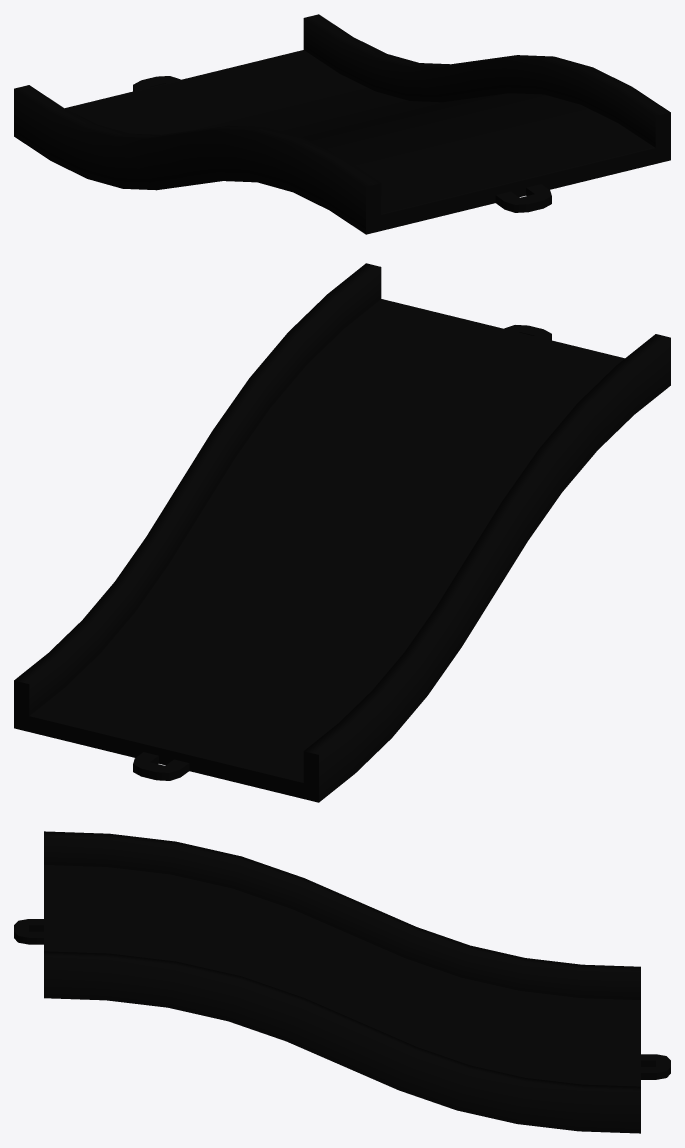
File: Track_Hill.glb
3 views of the same model, one above another, from view 1: azimuth 30°, elevation 25°; view 2: azimuth 150°, elevation 25°; view 3: azimuth 270°, elevation 25° (orthographic). The views are drawn at different scales.
Parts seen in each view (by area): view 1: track-wide-straight-hill-complete; view 2: track-wide-straight-hill-complete; view 3: track-wide-straight-hill-complete.
Boxes of the visible parts, x1,y1,x2,y2 form: track-wide-straight-hill-complete: (14, 14, 670, 234); track-wide-straight-hill-complete: (14, 263, 670, 802); track-wide-straight-hill-complete: (14, 831, 670, 1133).
Bounding box in the file's own units: 2 × 1.3 × 4.4.
1 material, 1 textured.
